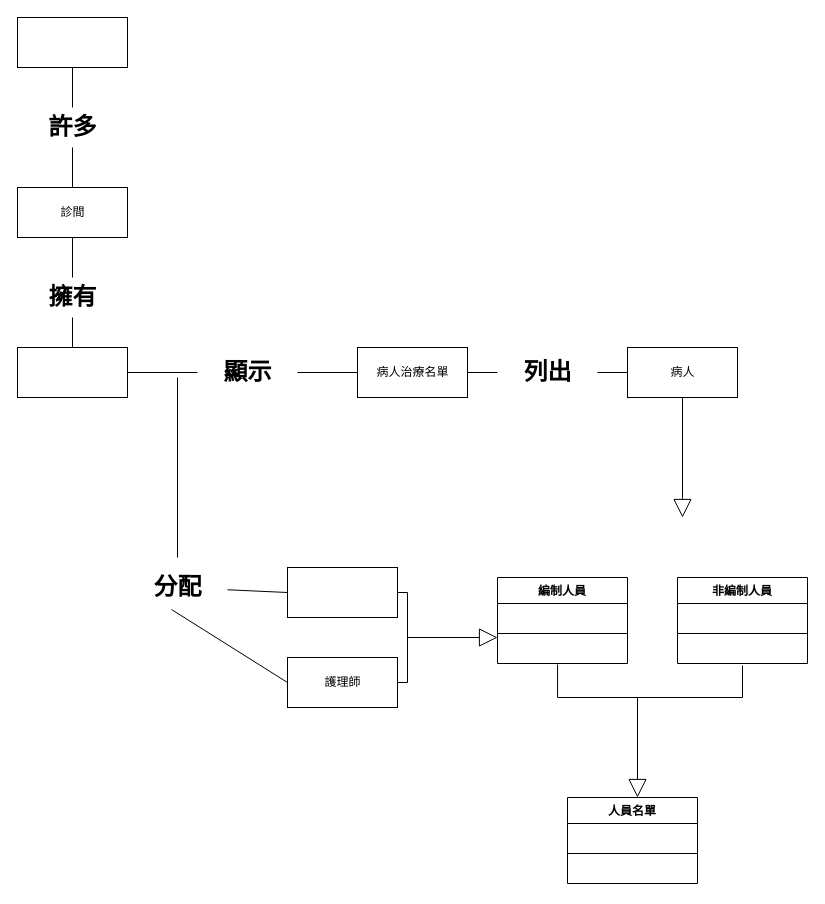
This 825x904 diagram has some shape labels left out. The centre of each missing label's shape, as x and y in pixels:
時段: (x=72, y=372)
醫師: (x=342, y=592)
非西醫院: (x=72, y=42)
